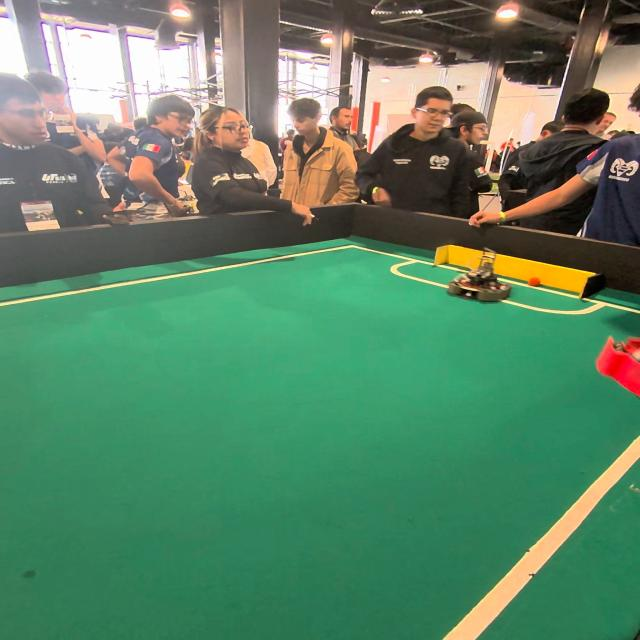Robot: (450, 247, 511, 307)
pelota: (530, 277, 539, 286)
